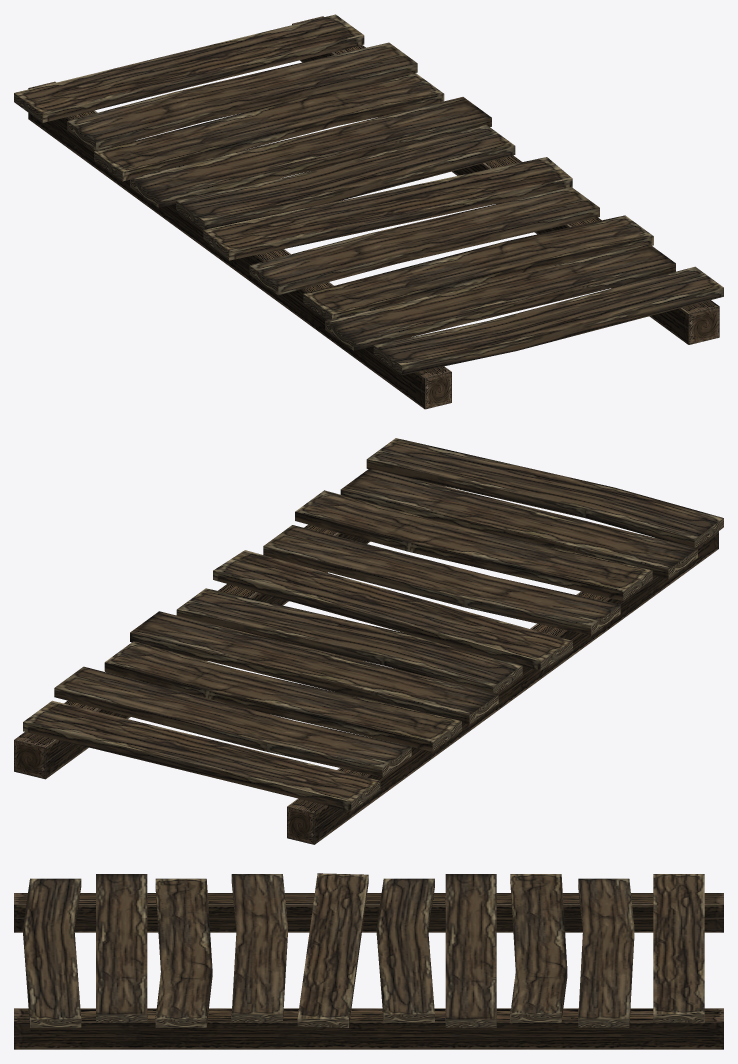
Rendered from Deck_06.fbx.
3 renders of one model, top to bottom at view 1: azimuth 30°, elevation 25°; view 2: azimuth 150°, elevation 25°; view 3: azimuth 270°, elevation 25°, orthographic. The views are drawn at different scales.
Parts seen in each view (by area): view 1: Deck_06; view 2: Deck_06; view 3: Deck_06.
Boxes of the visible parts, bbox=[...] form: Deck_06: bbox=[14, 14, 723, 409]; Deck_06: bbox=[14, 438, 723, 844]; Deck_06: bbox=[14, 873, 723, 1049].
Size of the model in its own units: 3.91 by 0.4479 by 8.
